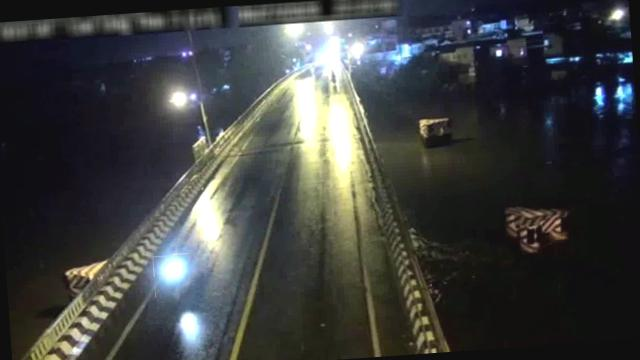Bike: (153, 253, 194, 298)
